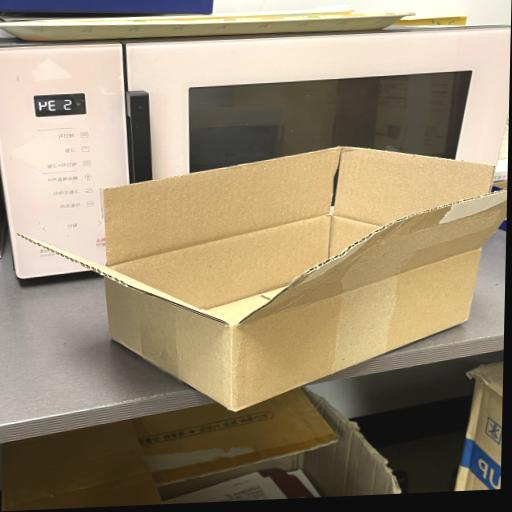box: (16, 144, 504, 412)
opened: (16, 144, 505, 328)
